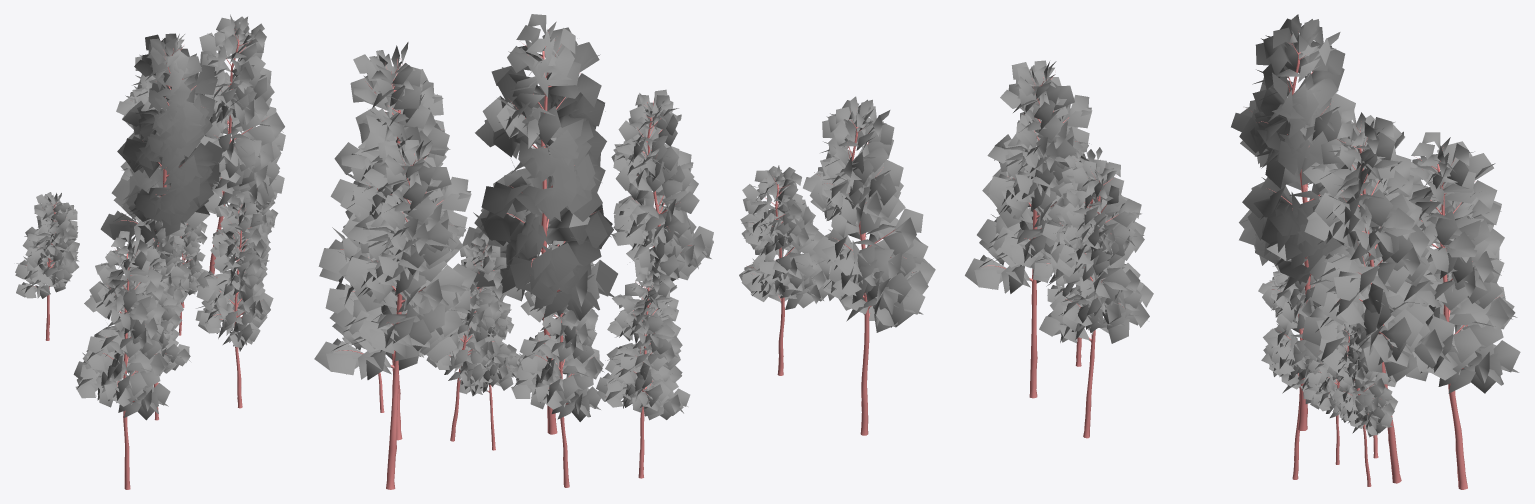
Rendered from Woods_Dawn_Trees_17.gltf.
3 views of the same model, side by side, from view 1: azimuth 30°, elevation 25°; view 2: azimuth 150°, elevation 25°; view 3: azimuth 270°, elevation 25° (orthographic). The views are drawn at different scales.
Parts seen in each view (by area): view 1: Woods_Dawn_Trees_17; view 2: Woods_Dawn_Trees_17; view 3: Woods_Dawn_Trees_17.
Boxes of the visible parts, x1,y1,x2,y2 form: Woods_Dawn_Trees_17: (15, 14, 285, 489); Woods_Dawn_Trees_17: (314, 14, 935, 489); Woods_Dawn_Trees_17: (965, 14, 1520, 489).
Bounding box in the file's own units: 114 × 116 × 125.
